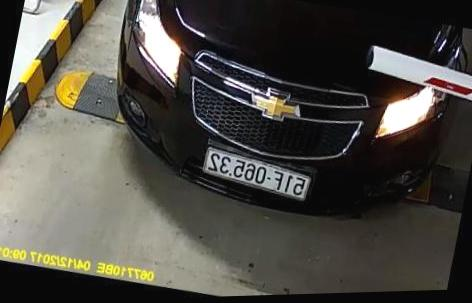License_Plate: (198, 141, 322, 211)
